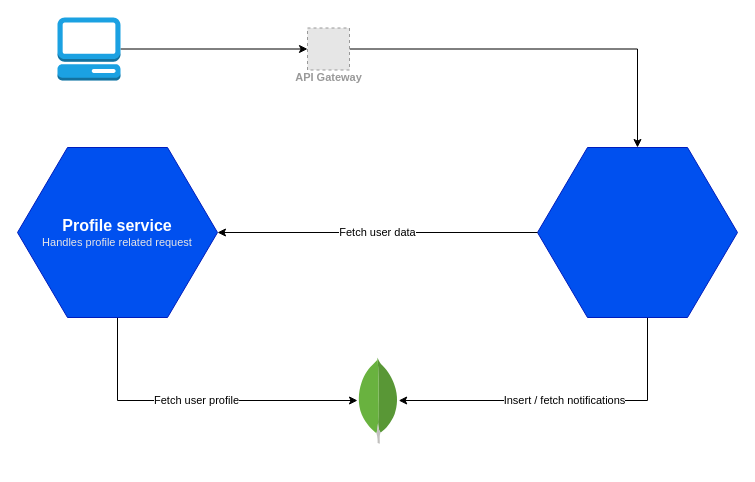
The diagram is 755 pixels wide and 482 high, and some of its shapes have lost their labels. Grey dashed boxes stand in for pictures. Each missing label, with the box of its shape:
MongoDB: (356, 356, 399, 444)
Notification service Handles notification related request: (536, 146, 738, 318)
